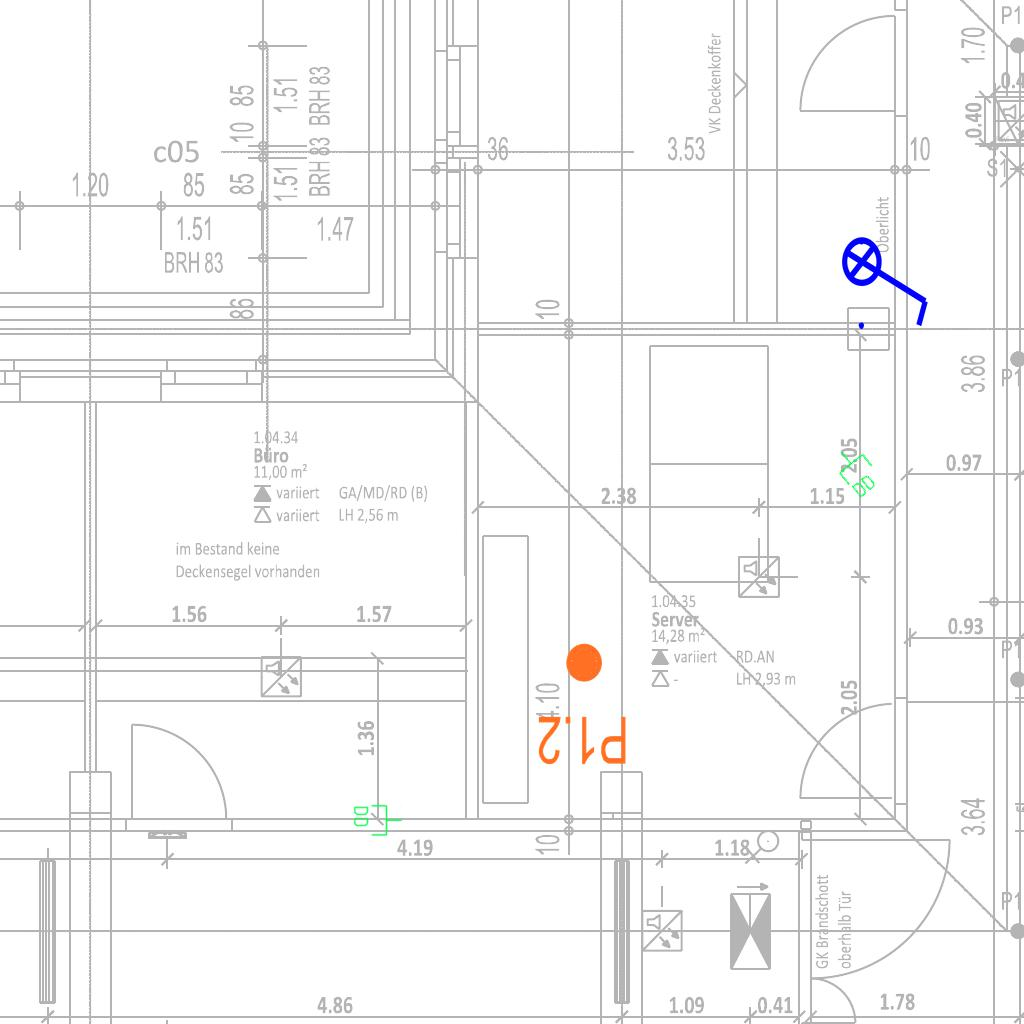Ausschalter_beleuchtet: (840, 223, 936, 335)
Datenanschluss_zweifach: (827, 440, 886, 502), (352, 803, 403, 837)
Downlight_LED_Einbauleuchten_Flur: (536, 640, 629, 768)
